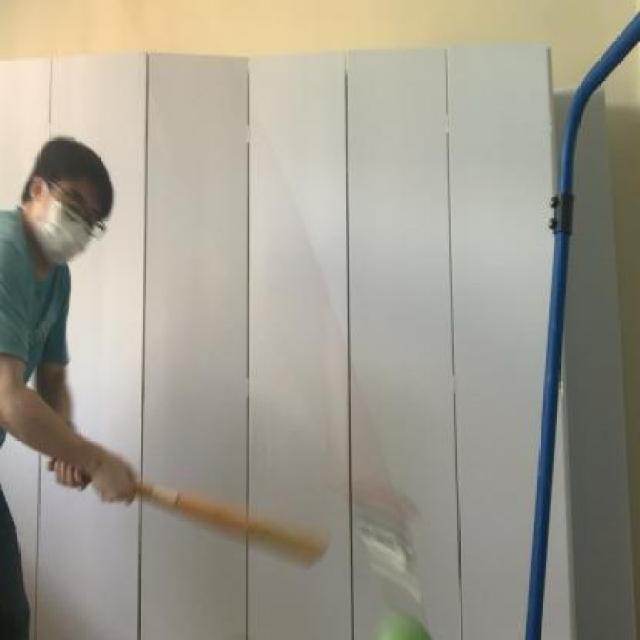baseball: (366, 594, 442, 640)
